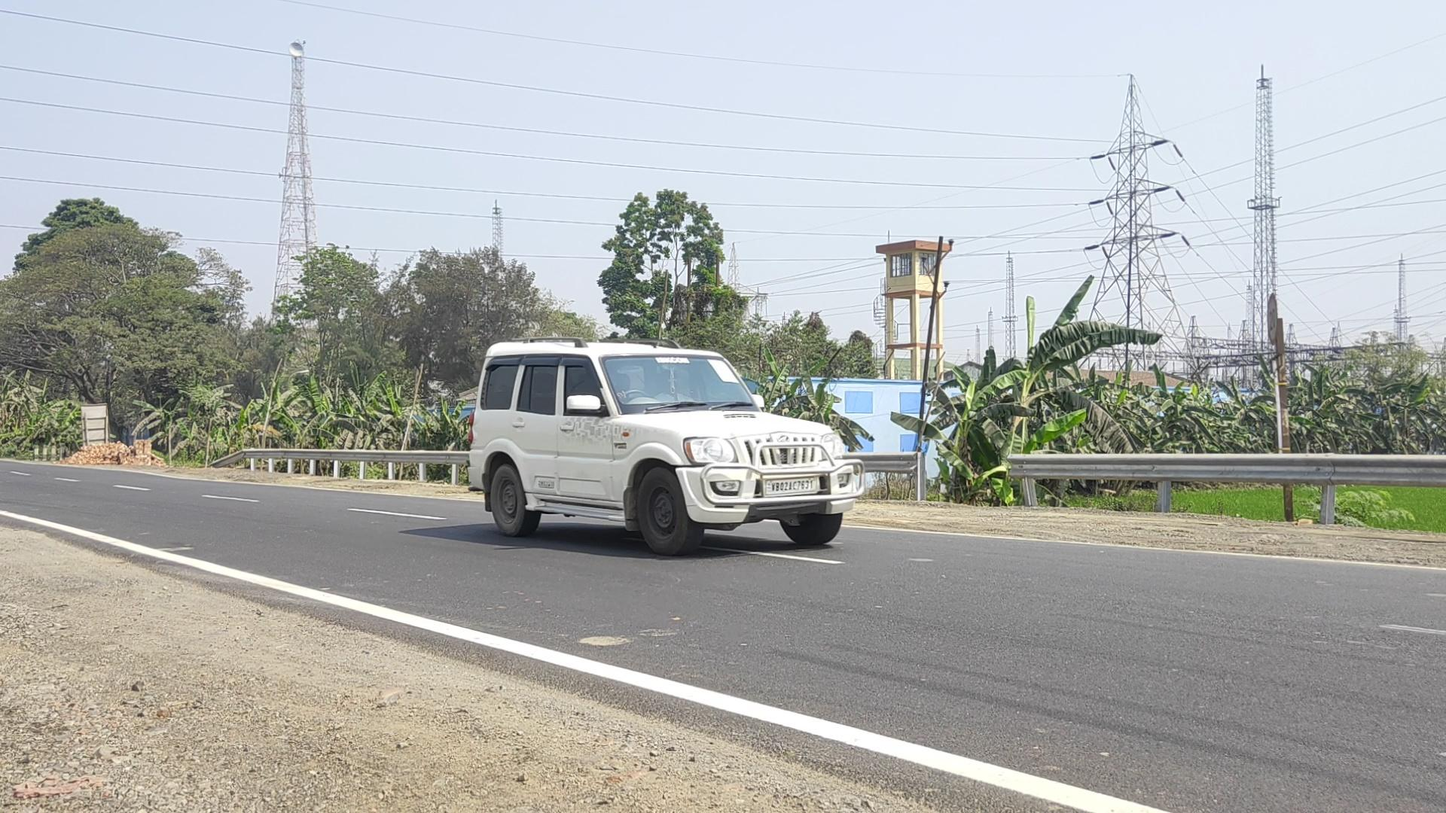car: (468, 336, 865, 556)
